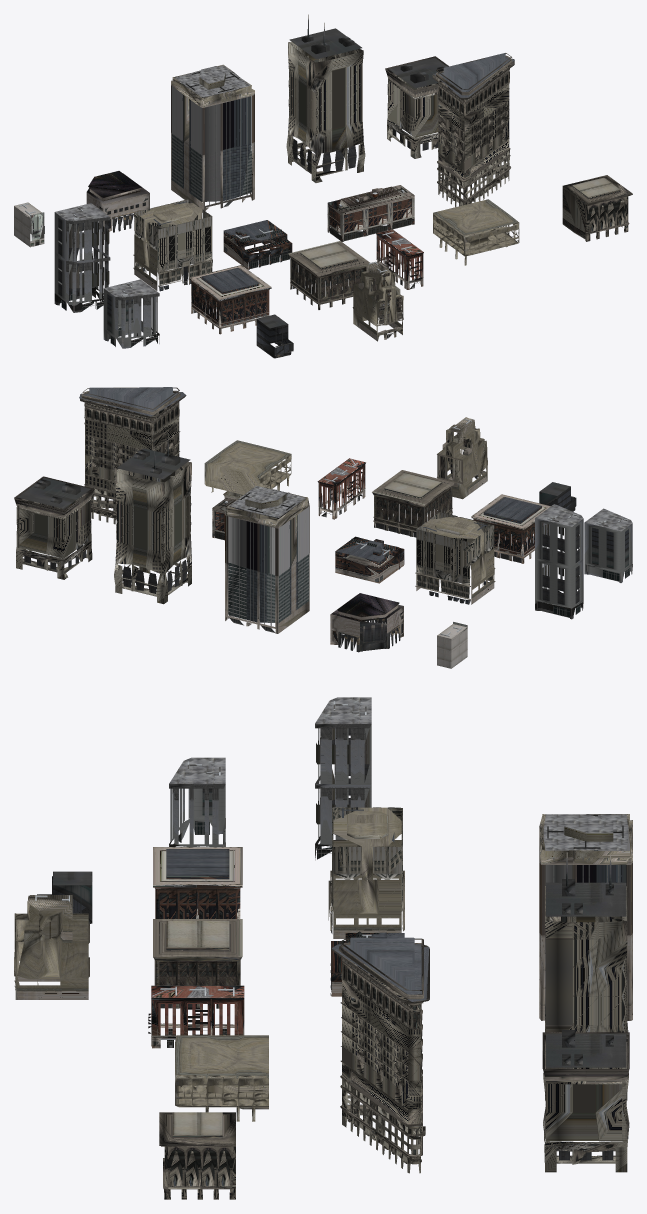
File: downtown_skyline.glb
The picture shows the model from 3 angles, top to bottom: view 1: azimuth 30°, elevation 25°; view 2: azimuth 150°, elevation 25°; view 3: azimuth 270°, elevation 25°; orthographic projection. The views are drawn at different scales.
Visible parts, largest first — view 1: object 1, object 2; view 2: object 1, object 2; view 3: object 1, object 2.
Part boxes in pixels (x1,y1,x2,y2): object 1: (14,14,632,358); object 2: (54,212,159,348); object 1: (14,387,632,668); object 2: (535,518,632,619); object 1: (14,697,632,1199); object 2: (169,724,371,857).
Size of the model in its own units: 210 by 60 by 149.
15 materials, 15 textured.
